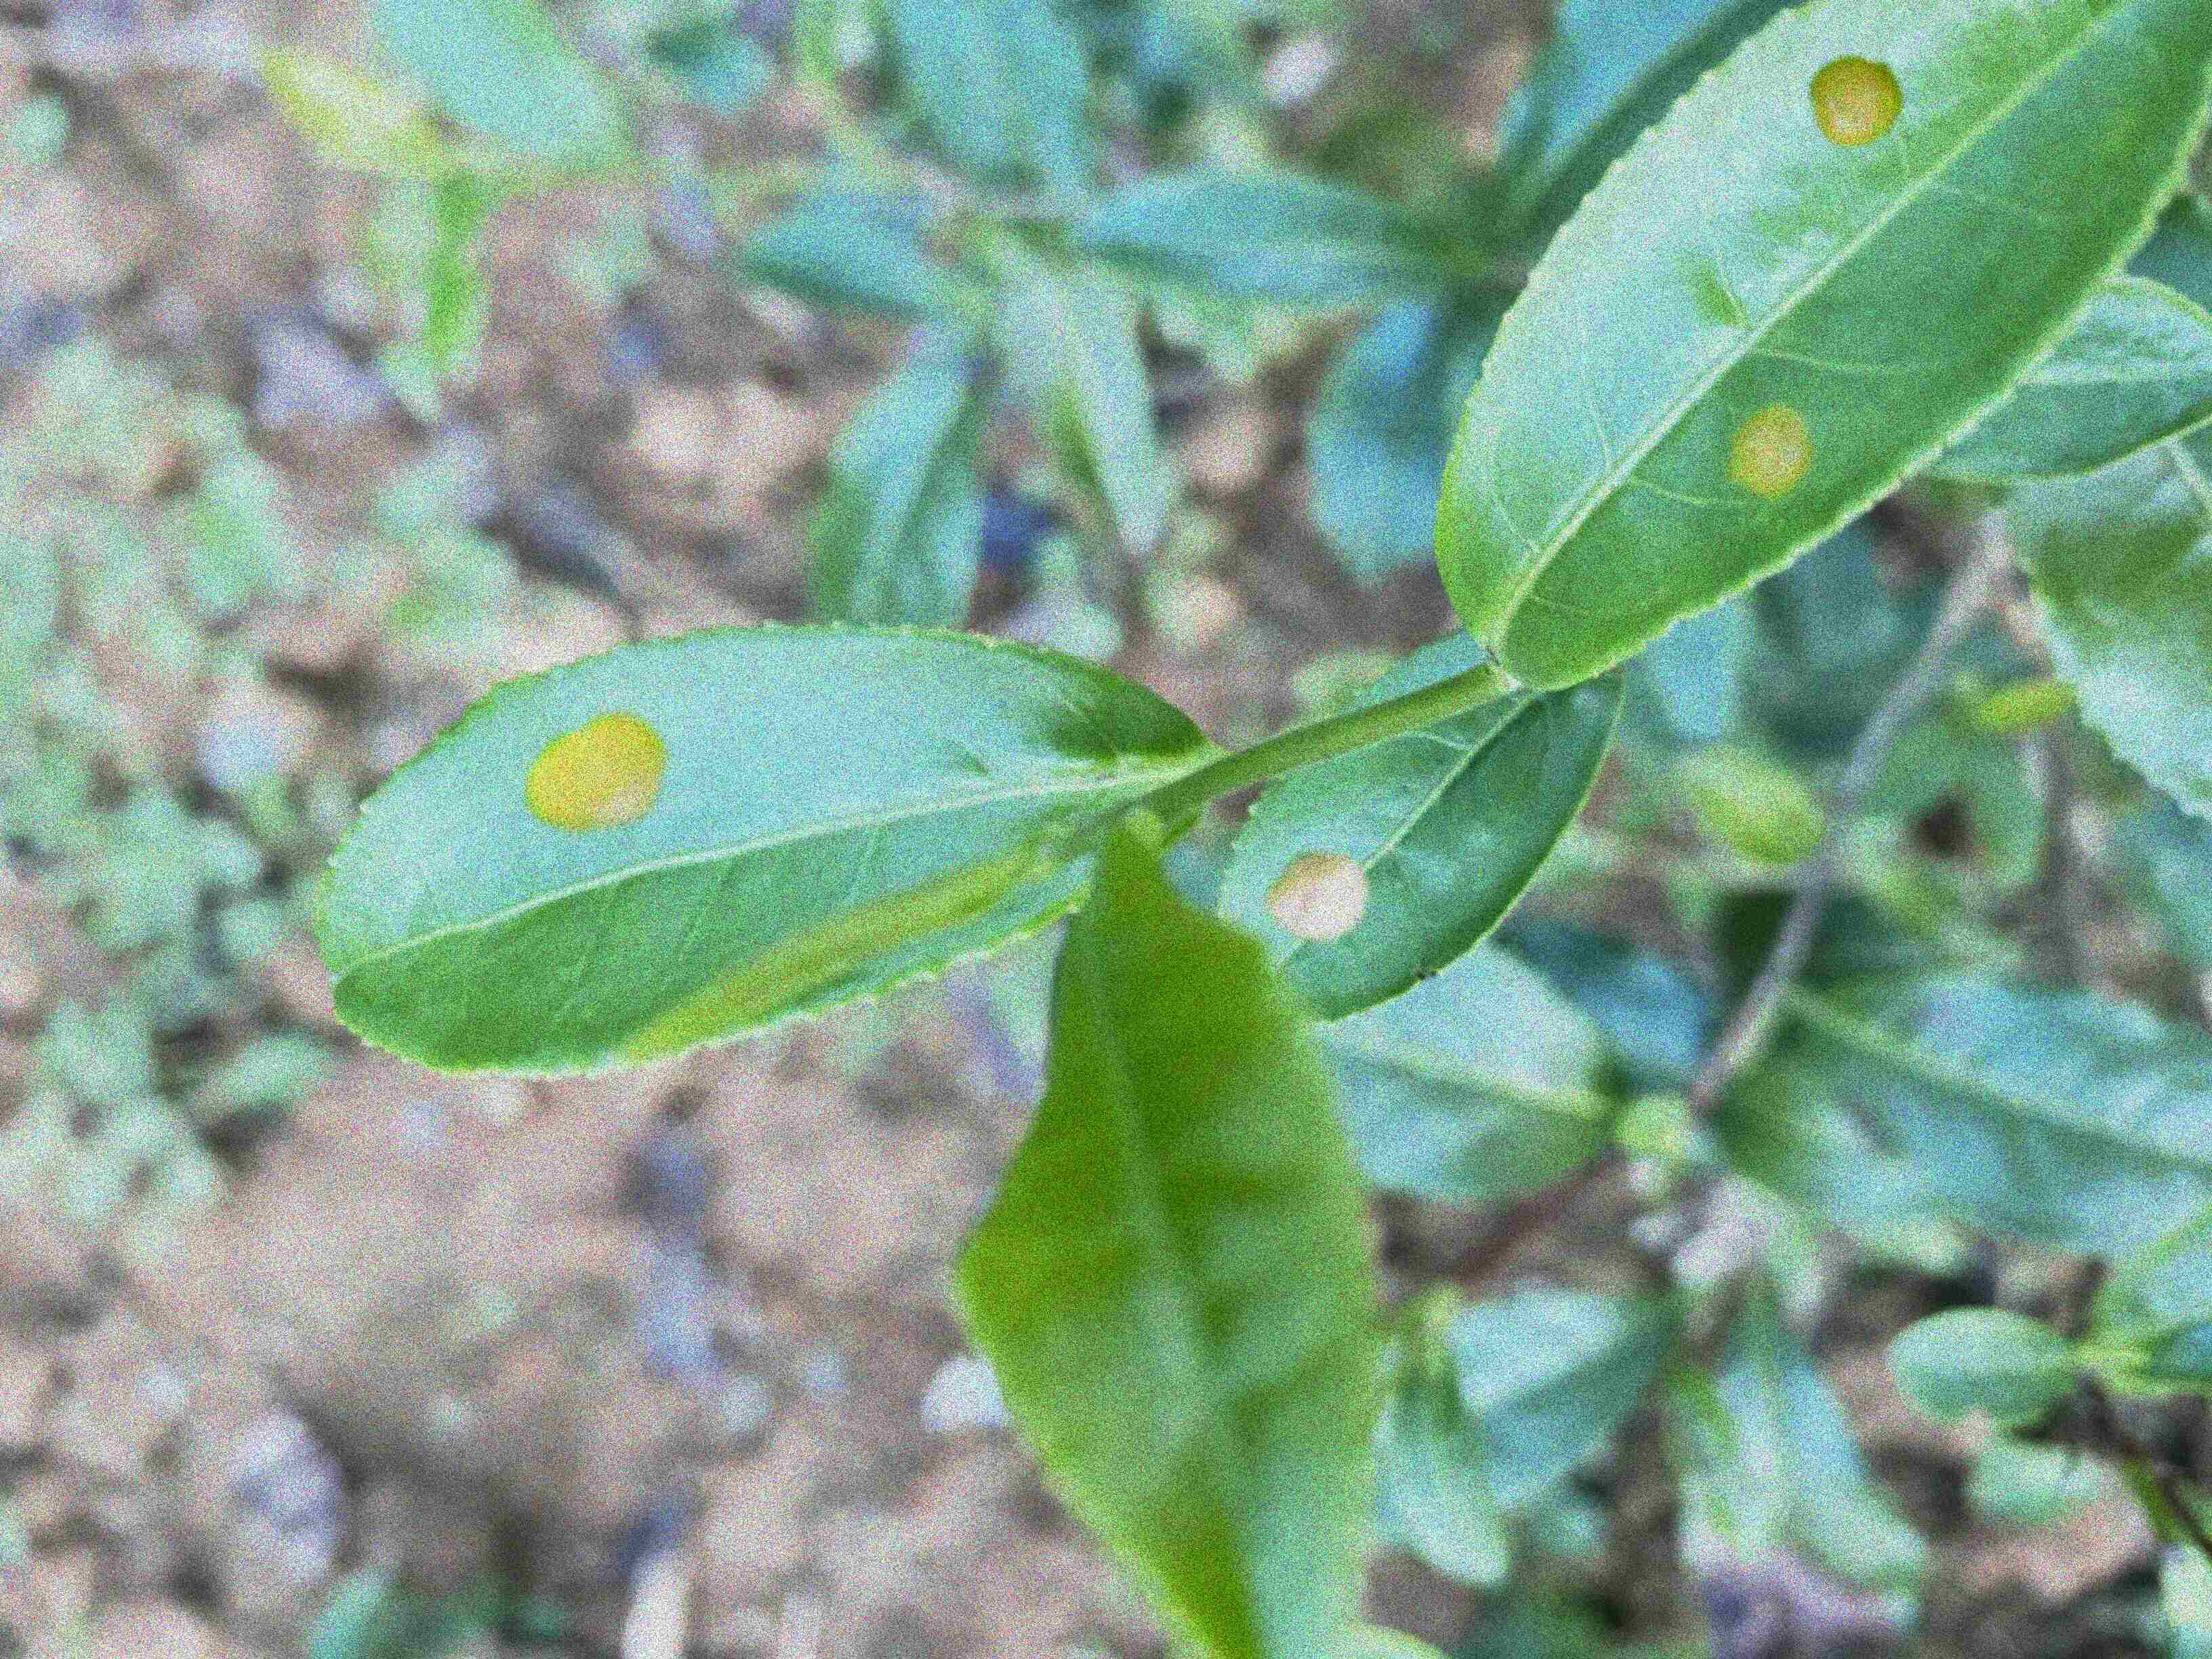chabing_high: (1432, 7, 2209, 690)
chabing_low: (315, 619, 1223, 1082), (1219, 634, 1627, 1026)
healthy: (958, 821, 1381, 1657)
